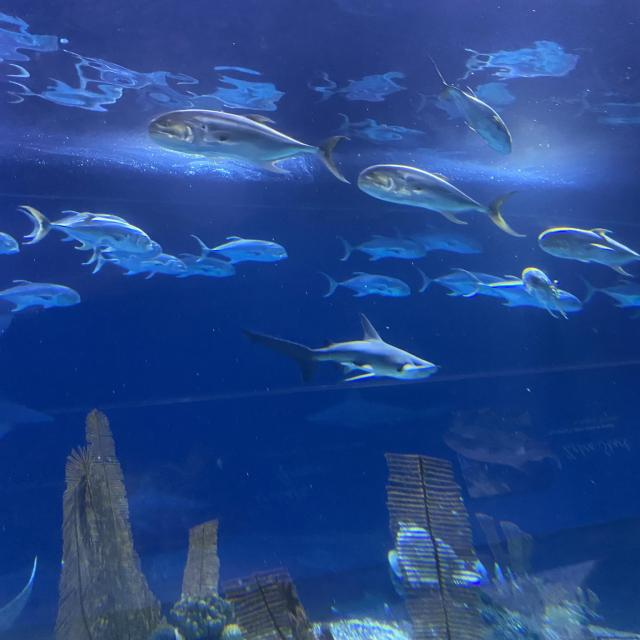fish: (147, 108, 351, 184), (358, 164, 516, 234), (427, 51, 513, 156), (18, 204, 153, 252), (539, 228, 640, 276), (84, 252, 185, 278), (191, 235, 288, 262), (0, 280, 81, 312), (420, 270, 514, 297), (338, 235, 428, 263), (321, 273, 410, 299), (524, 267, 568, 319), (500, 284, 583, 311), (579, 275, 640, 308), (85, 240, 162, 264), (161, 252, 236, 276), (0, 232, 20, 256)
shark: (240, 315, 440, 383), (307, 387, 448, 428)
